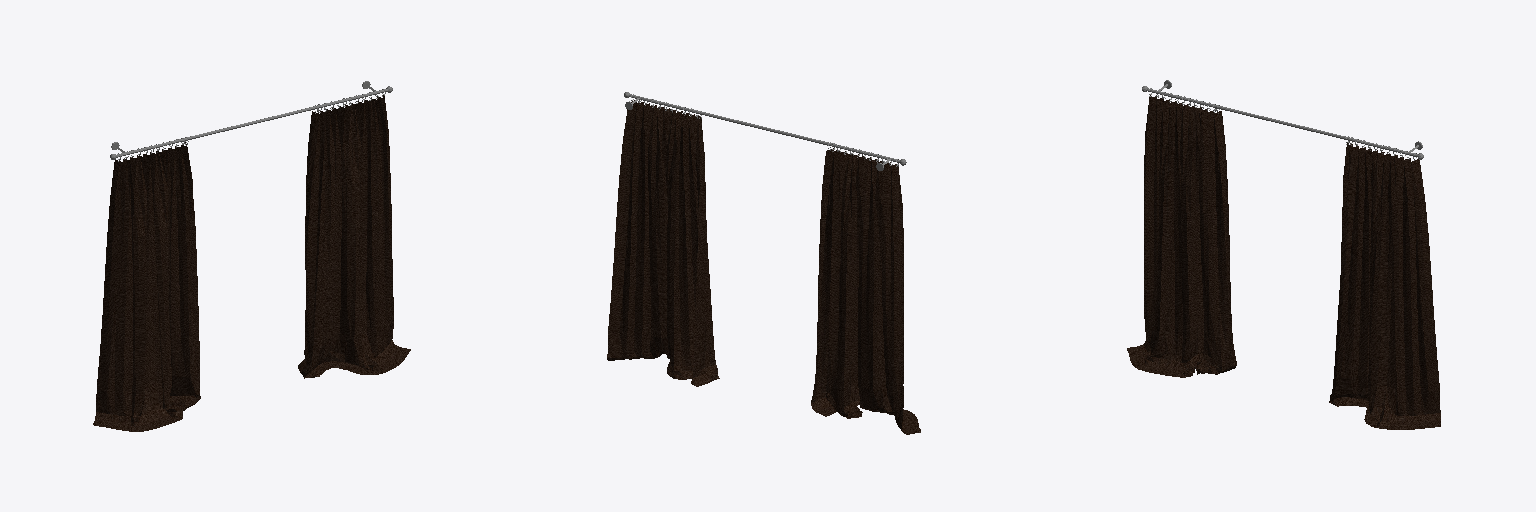
3 views of the same model, side by side, from view 1: azimuth 30°, elevation 25°; view 2: azimuth 150°, elevation 25°; view 3: azimuth 330°, elevation 25° (orthographic).
Bounding box in the file's own units: 3.26 × 2.65 × 0.52.
Materials: 2 (2 with a texture image).